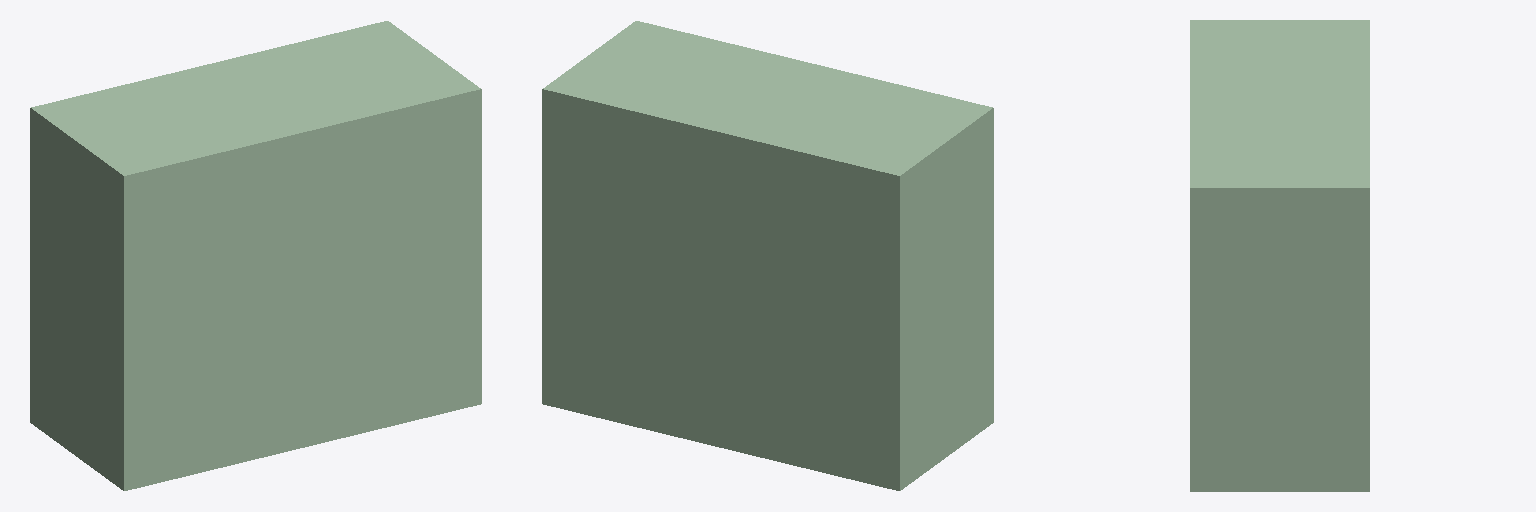
URDF robot description (box.urdf):
<?xml version="1.0" ?>
<robot name="box.urdf">
  <link name="baseLink">
    <contact>
      <lateral_friction value="1.0"/>
      <rolling_friction value="0.0001"/>
      <inertia_scaling value="3.0"/>
    </contact>
    <inertial>
      <origin rpy="0 0 0" xyz="0 0 0"/>
       <mass value="0.1"/>
       <inertia ixx="1" ixy="0" ixz="0" iyy="1" iyz="0" izz="1"/>
    </inertial>
    <visual>
      <origin rpy="0 0 0" xyz="0 0 0"/>
      <geometry>
        <!-- <box size="0.293 0.133 0.247"/> -->
        <mesh filename="box/box.obj" scale="0.293 0.133 0.247"/>
      </geometry>
      <material name="white">
        <color rgba="0.7 0.8 0.7 1"/>
      </material>
    </visual>
    <collision>
      <origin rpy="0 0 0" xyz="0 0 0"/>
      <geometry>
        <mesh filename="box/box.obj" scale="0.293 0.133 0.247"/>
	 	    <!-- <box size="0.293 0.133 0.247"/> -->
      </geometry>
    </collision>
  </link>
</robot>

--- What the picture shows (computed from the rendered views, not written in the file) ---
Views: 3 orthographic renders of the robot side by side, from view 1: azimuth 30°, elevation 25°; view 2: azimuth 150°, elevation 25°; view 3: azimuth 270°, elevation 25°.
Model box.urdf with 1 links and 0 joints (none), rooted at baseLink, posed all joints at 0.
Links seen in each view (by area): view 1: baseLink; view 2: baseLink; view 3: baseLink.
Link boxes in pixels (x1=…): baseLink: x1=30, y1=21, x2=481, y2=490; baseLink: x1=542, y1=21, x2=993, y2=490; baseLink: x1=1190, y1=20, x2=1369, y2=491.
Bounding box of the posed robot: 0.293 × 0.133 × 0.247 m (x, y, z).
Meshes: 1 distinct files referenced, 1 mesh visuals loaded (1 OBJ).
